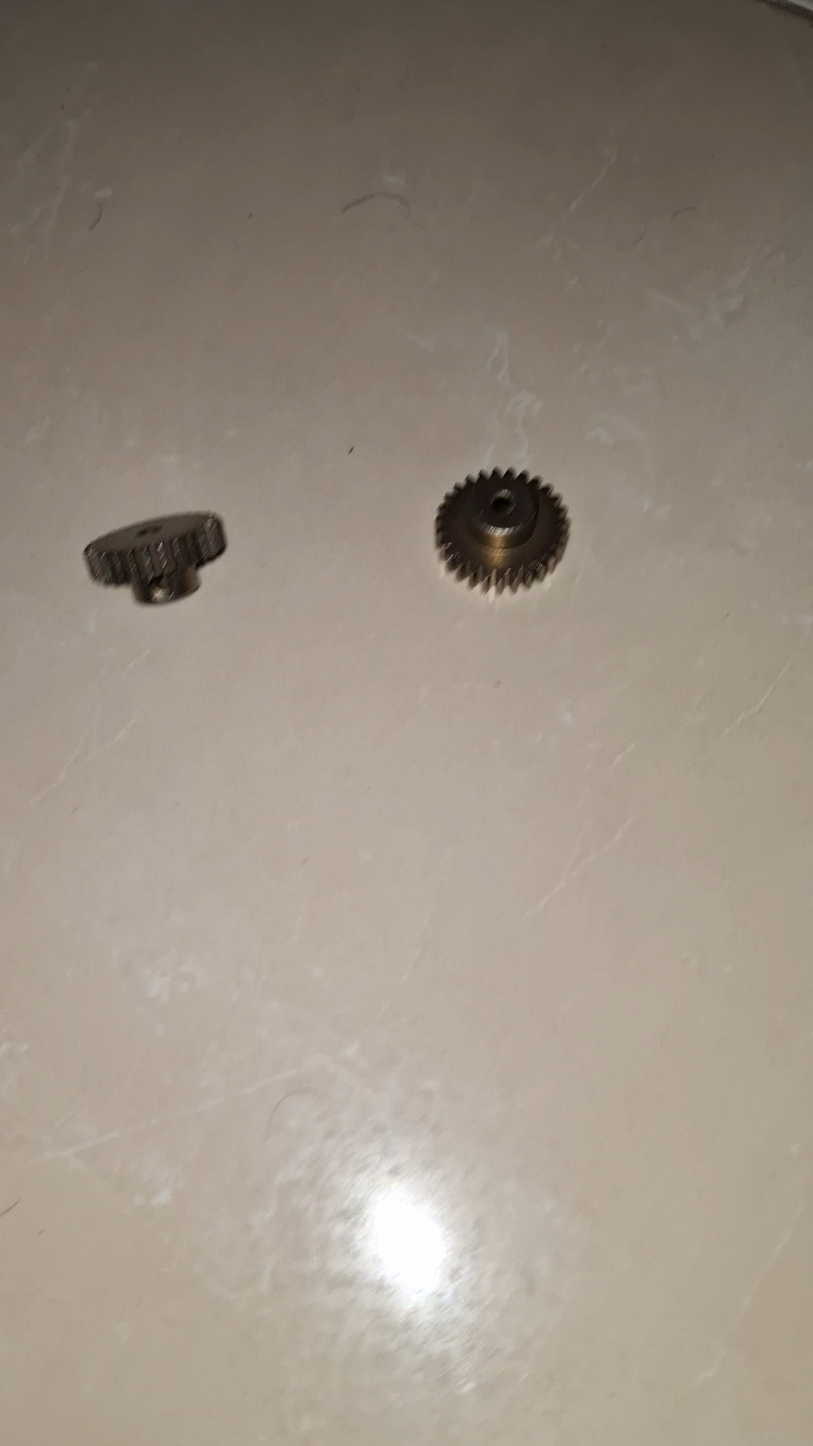spur gear: (436, 470, 569, 591), (85, 513, 225, 604), (767, 0, 813, 21)
